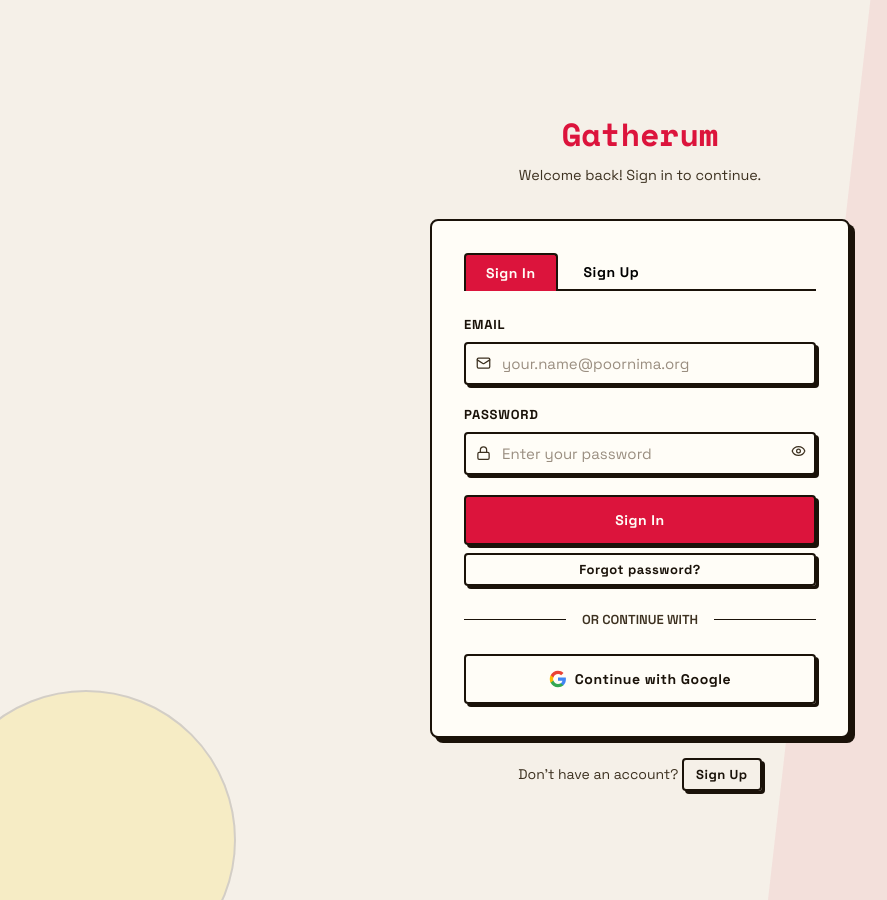
Scenario: AuthPage › identities: [] shows the already-exists message and keeps the email
The width and height of the screenshot is (887, 900).
Click the tab "Sign Up": (611, 271) [562,253,661,289]
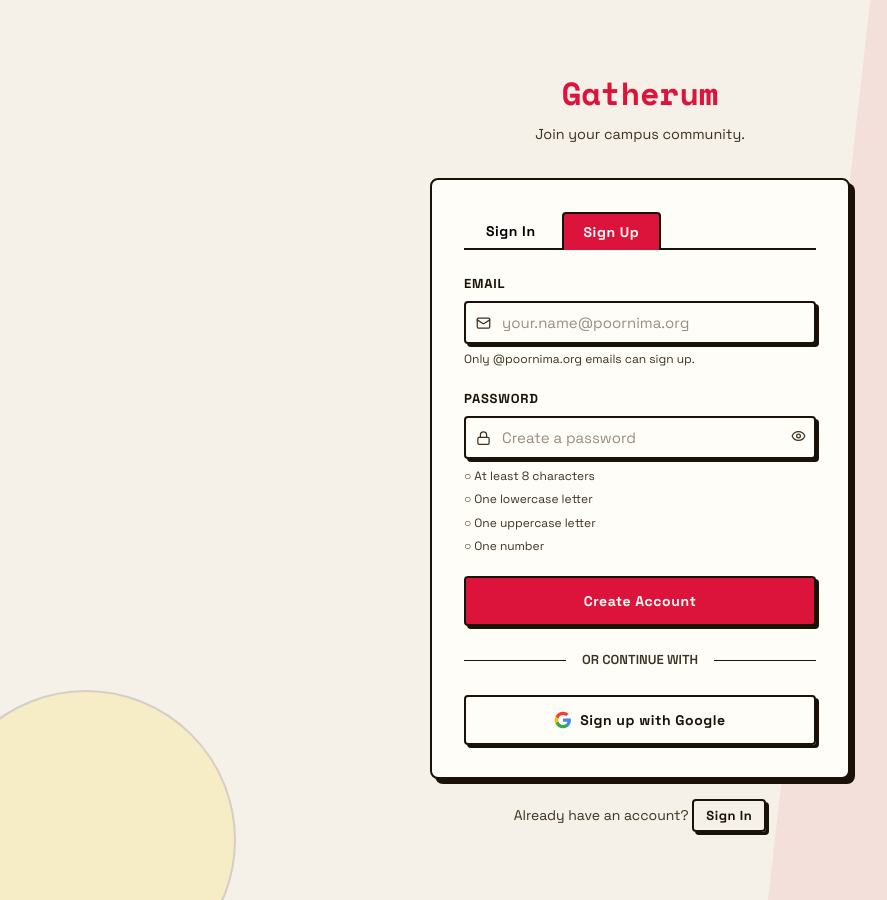
In the field labelled "Email": (640, 323) [464,301,816,344], type "taken@poornima.org"
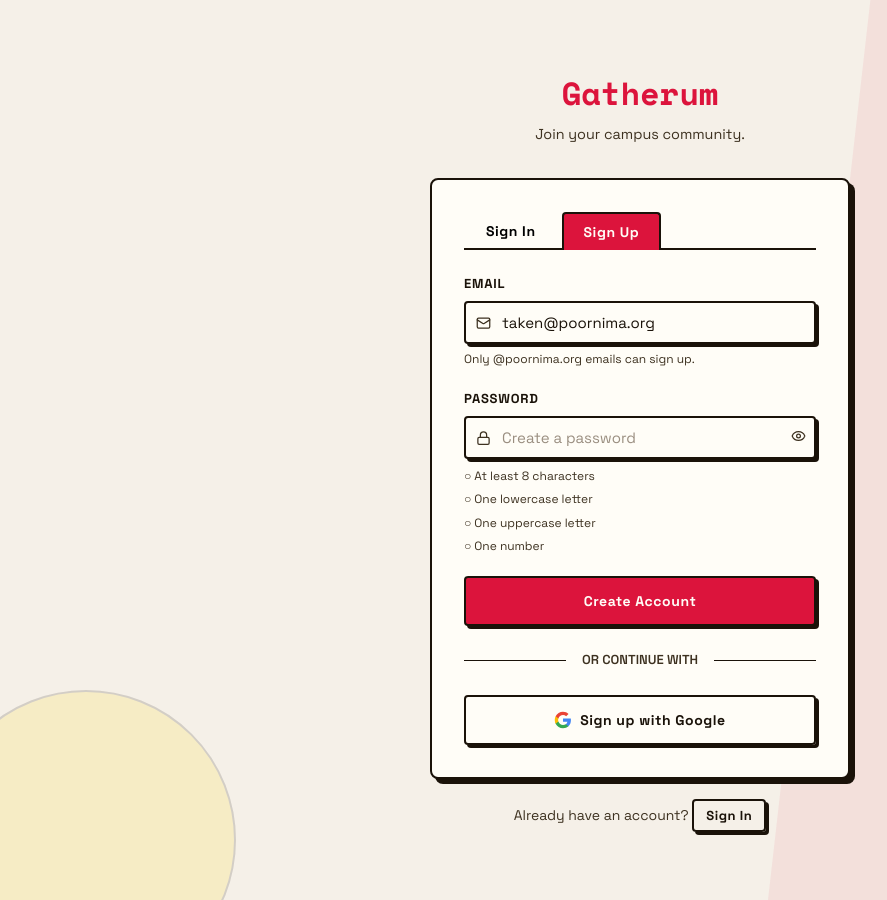
In the password field labelled "Password": (640, 438) [464,416,816,459], type "Abcdef12"
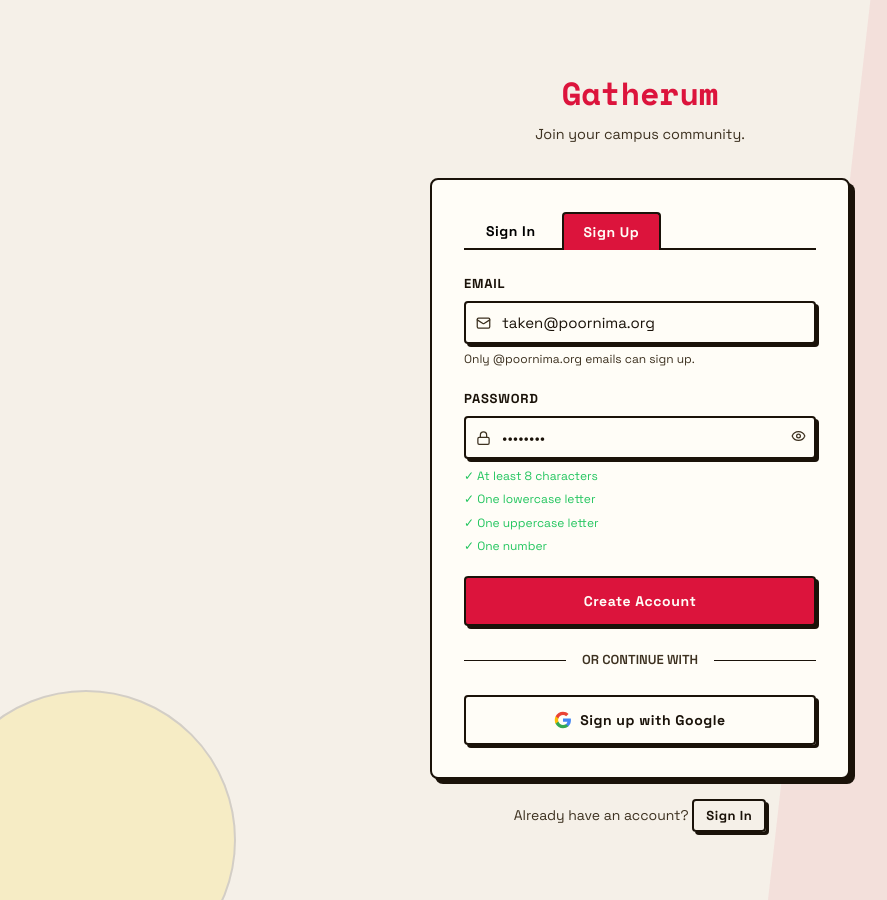
Click the button "Create Account": (640, 601) [464,576,816,626]
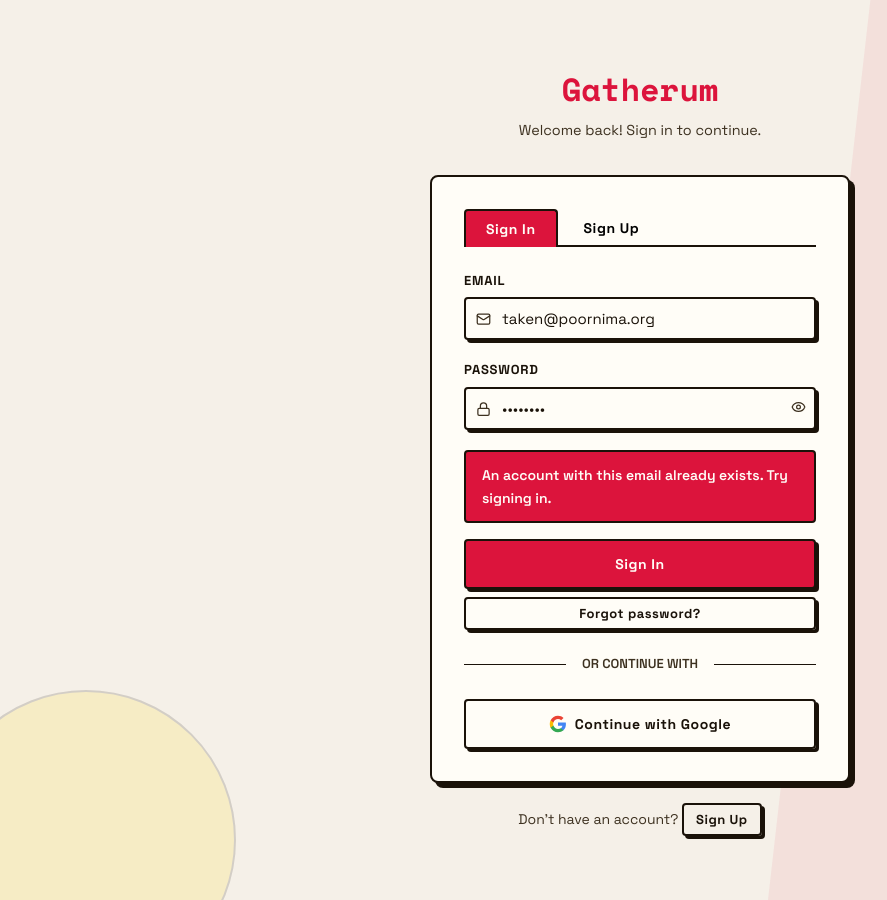
Expected: the text "An account with this email already exists. Try signing in." is shown, [464,450,816,523]
